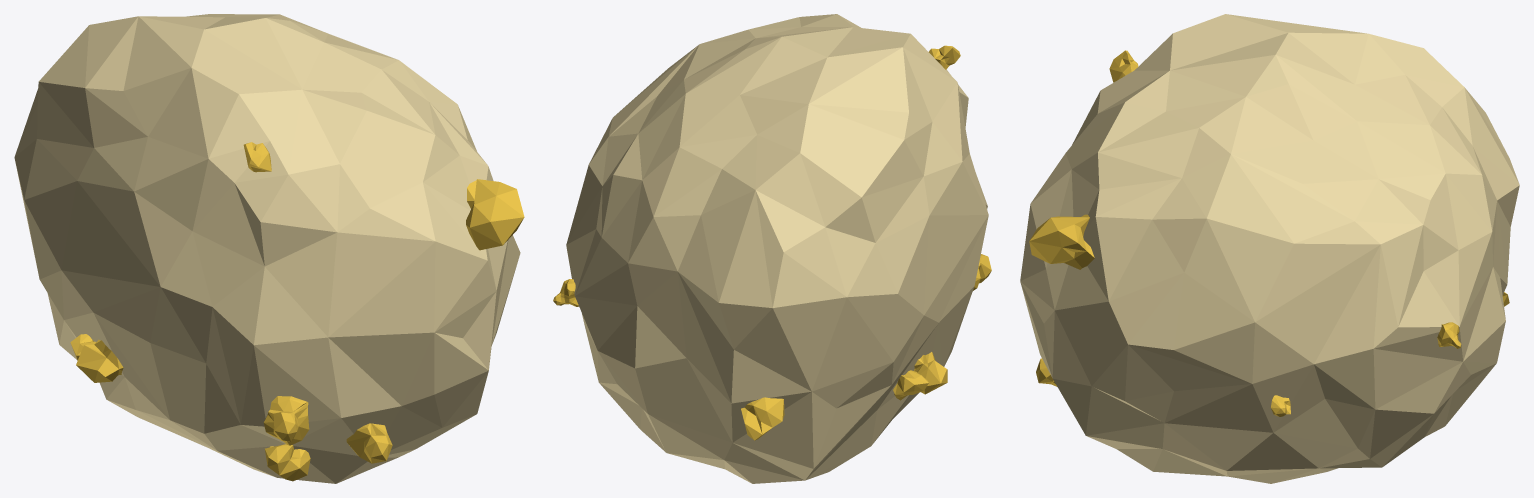
The model's file is MetalOre (59).fbx.
The picture shows the model from 3 angles, left to right: view 1: azimuth 30°, elevation 25°; view 2: azimuth 150°, elevation 25°; view 3: azimuth 270°, elevation 25°; orthographic projection. The views are drawn at different scales.
Visible parts, largest first — view 1: Asteroid414; view 2: Asteroid414; view 3: Asteroid414.
Part boxes in pixels (x1=…): Asteroid414: x1=14, y1=14, x2=524, y2=483; Asteroid414: x1=553, y1=14, x2=991, y2=483; Asteroid414: x1=1020, y1=14, x2=1519, y2=483.
Size of the model in its own units: 455 by 503 by 557.
